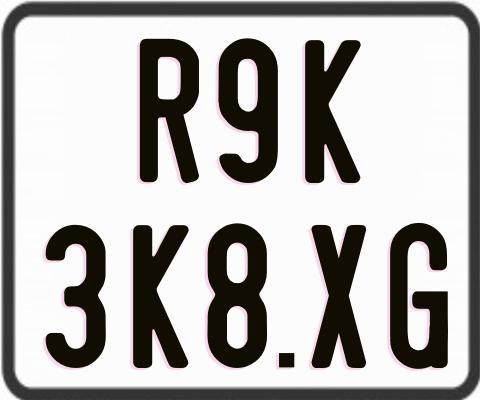3: (43, 222, 109, 365)
8: (205, 223, 267, 370)
9: (217, 37, 283, 186)
G: (390, 220, 449, 372)
K: (133, 223, 195, 372), (304, 39, 361, 186)
R: (138, 36, 203, 183)
X: (308, 223, 365, 372)
